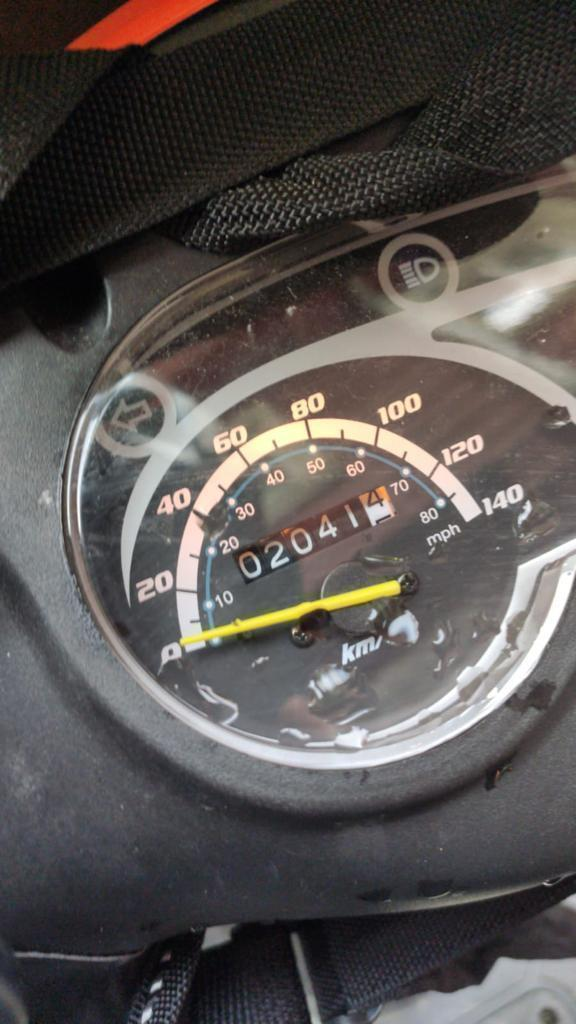0: (235, 552, 263, 581), (288, 526, 314, 555), (243, 501, 256, 516), (229, 534, 241, 550)
1: (342, 502, 359, 528)
2: (262, 538, 290, 568)
3: (234, 506, 246, 521)
4: (316, 513, 339, 539), (365, 488, 385, 509)
7: (389, 481, 398, 495)
odometer: (228, 482, 399, 587)
